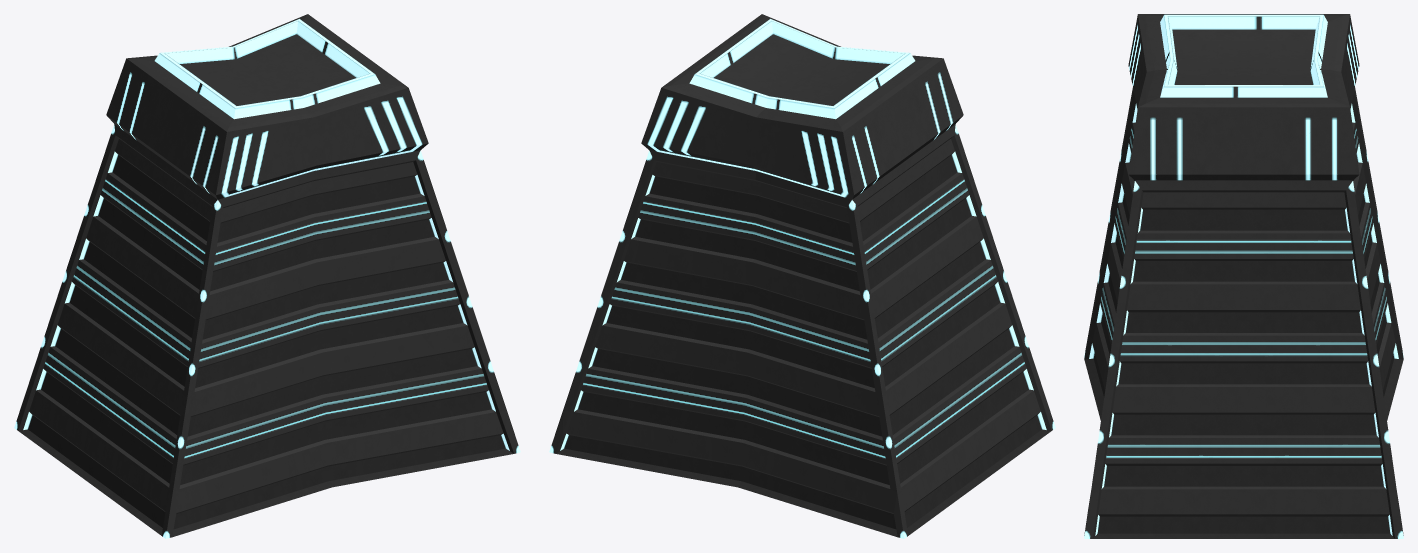
The model's file is bldg_bOw-BX_000.FBX.
3 views of the same model, side by side, from view 1: azimuth 30°, elevation 25°; view 2: azimuth 150°, elevation 25°; view 3: azimuth 270°, elevation 25° (orthographic). The views are drawn at different scales.
Visible parts, largest first — view 1: bldg_bow_bOx_00; view 2: bldg_bow_bOx_00; view 3: bldg_bow_bOx_00.
Boxes of the visible parts, box(x1,y1,x2,y2) form: bldg_bow_bOx_00: box(14, 14, 520, 538); bldg_bow_bOx_00: box(549, 14, 1055, 538); bldg_bow_bOx_00: box(1084, 14, 1403, 538).
Bounding box in the file's own units: 85.34 × 86.47 × 63.05.
Materials: 1 (1 with a texture image).
